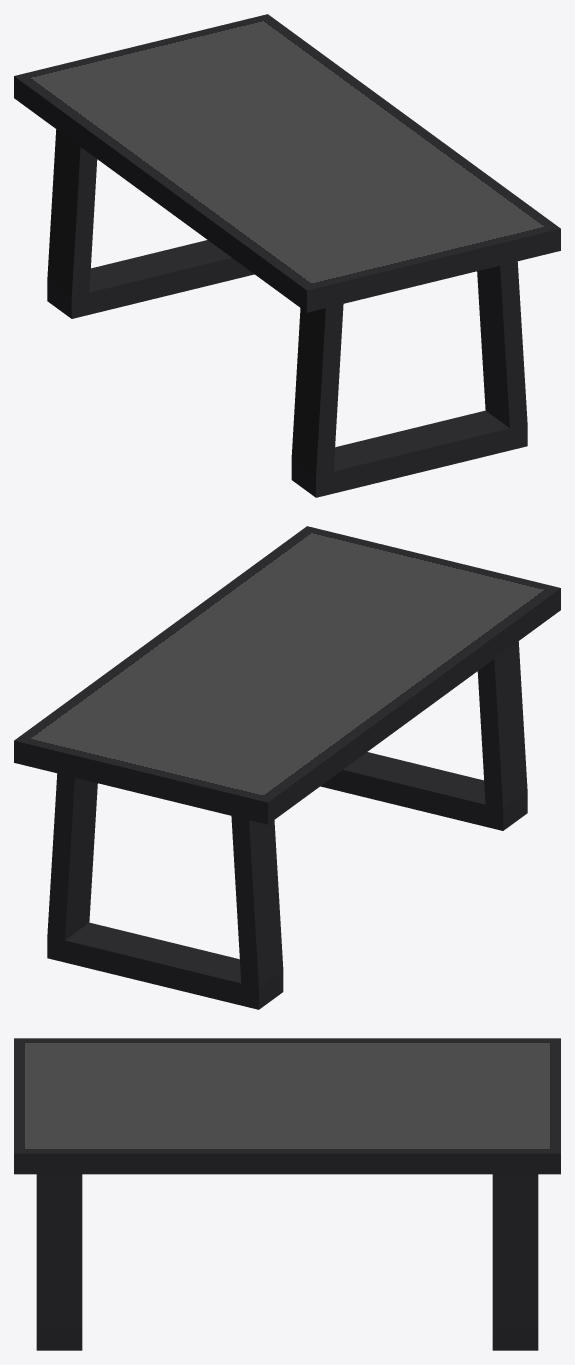
File: table.gltf
The picture shows the model from 3 angles, top to bottom: view 1: azimuth 30°, elevation 25°; view 2: azimuth 150°, elevation 25°; view 3: azimuth 270°, elevation 25°; orthographic projection. The views are drawn at different scales.
Visible parts, largest first — view 1: counter, legs2, legs1; view 2: counter, legs1, legs2; view 3: counter, legs1, legs2.
Boxes of the visible parts, box(x1,y1,x2,y2) form: counter: box(14, 14, 560, 312); legs2: box(291, 261, 527, 497); legs1: box(47, 129, 254, 318); counter: box(14, 526, 560, 824); legs1: box(47, 773, 283, 1009); legs2: box(320, 641, 527, 830); counter: box(14, 1038, 560, 1174); legs1: box(492, 1174, 538, 1350); legs2: box(36, 1174, 82, 1350).
Bounding box in the file's own units: 1.5 × 1.25 × 3.
